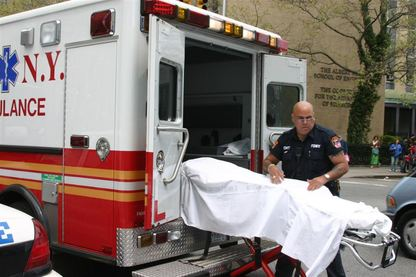ambulance: (0, 0, 307, 277)
car: (0, 203, 64, 277), (384, 168, 416, 253)
